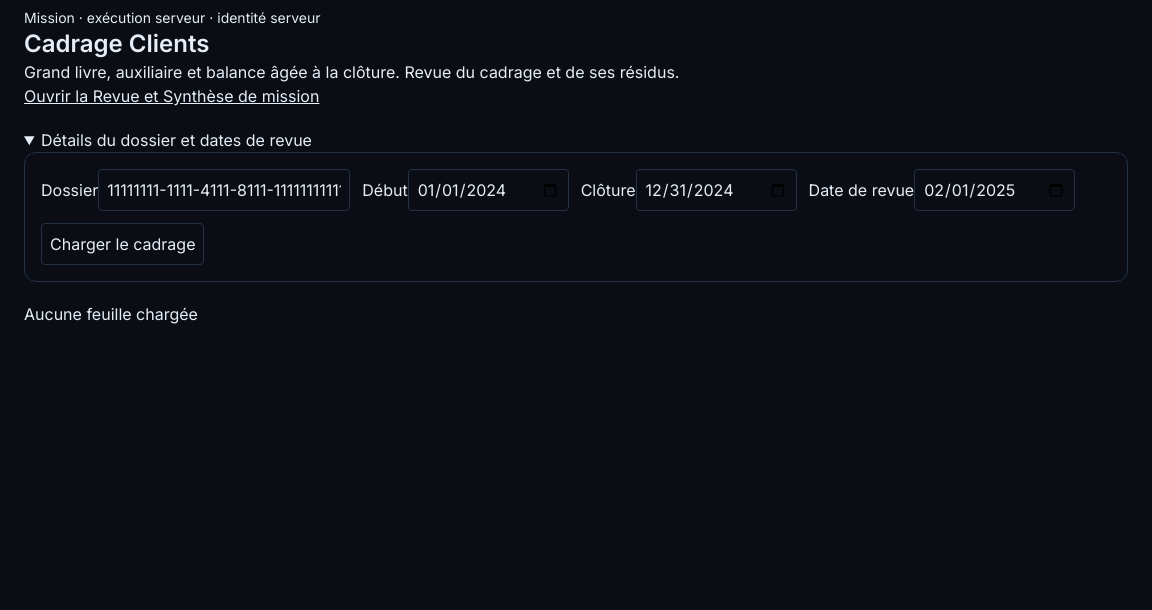
Test: état de sauvegarde de la feuille Clients › une feuille fraîchement chargée est « aucune modification en attente », puis devient non sauvegardée à la saisie et redevient propre si la saisie est annulée
Click the button "Charger le cadrage" at (123, 244), box [41, 223, 204, 265]
(page scrolled)
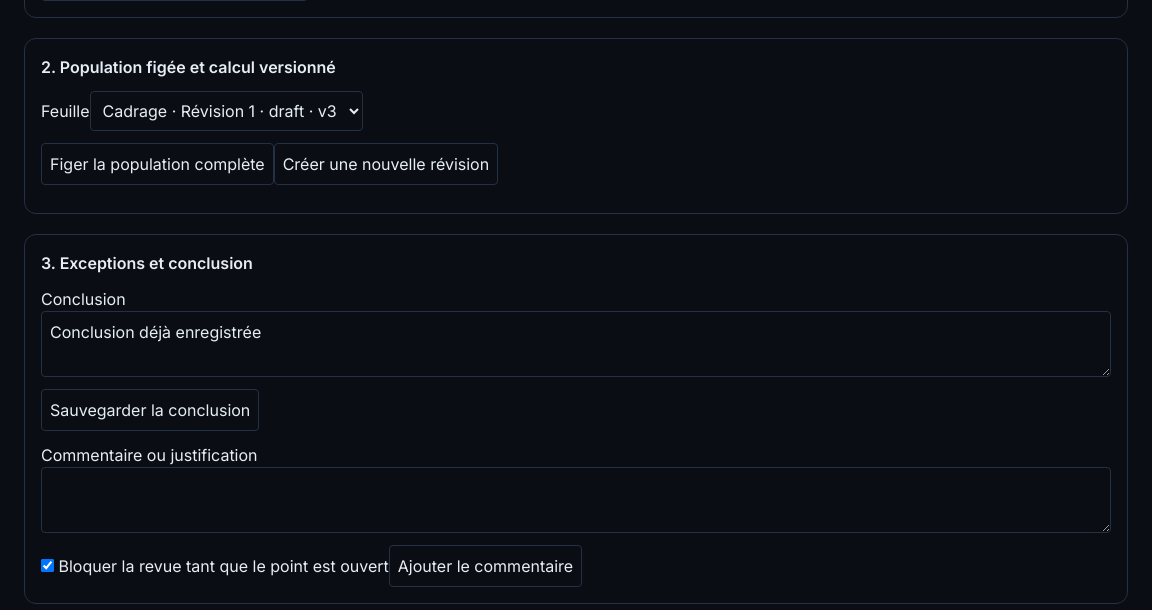
Replace the text in the text box labelled "Conclusion" with "Conclusion déjà enregistrée, complétée" at (576, 344), box [41, 311, 1111, 377]
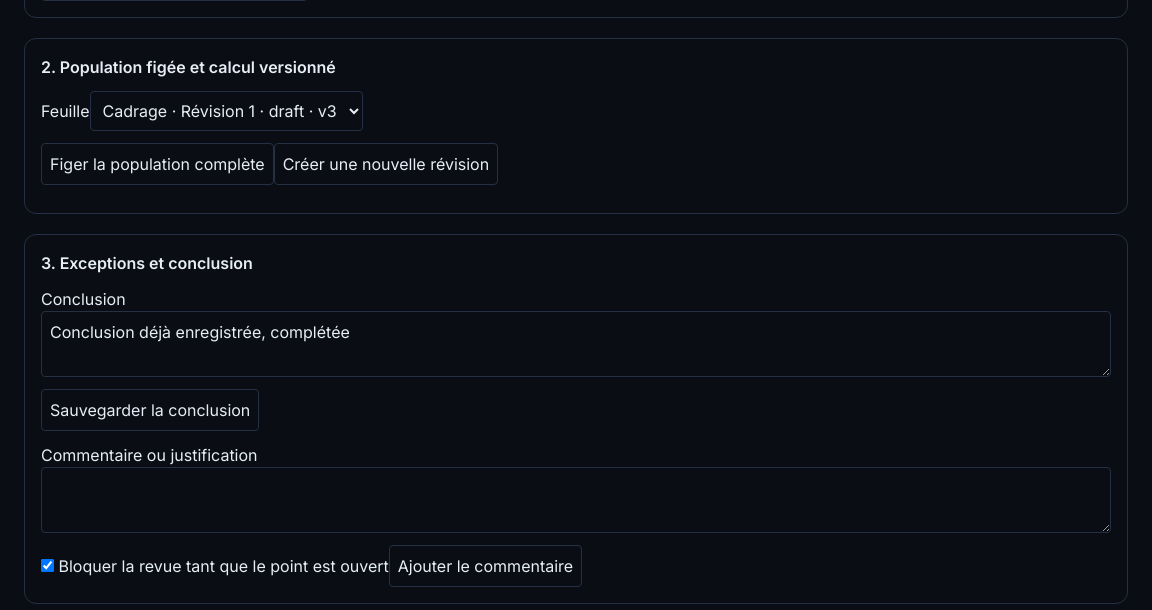
Replace the text in the text box labelled "Conclusion" with "Conclusion déjà enregistrée" at (576, 344), box [41, 311, 1111, 377]
(page scrolled)
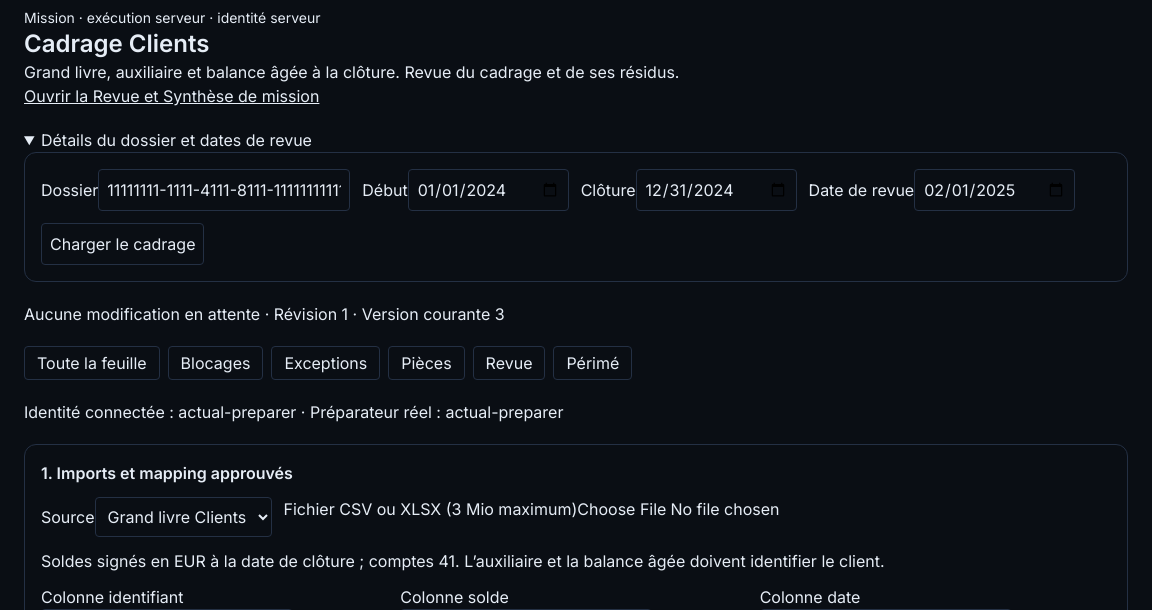
Expected: the message shows "Aucune modification en attente", [24, 304, 260, 324]
